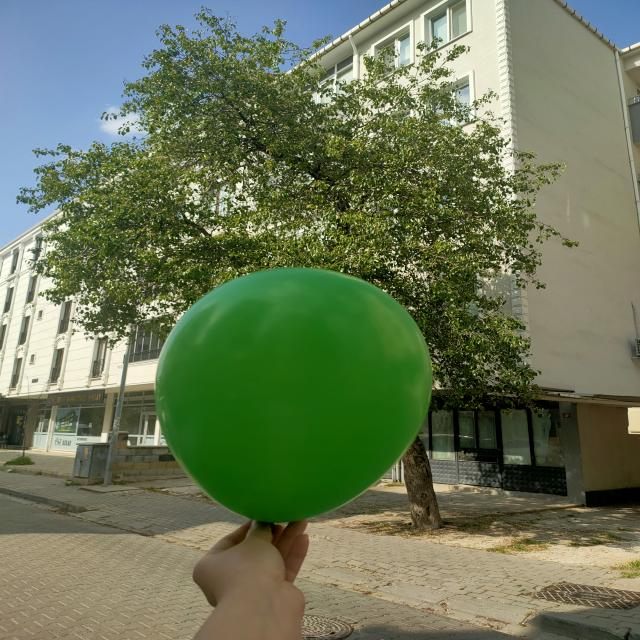green: (159, 270, 433, 525)
